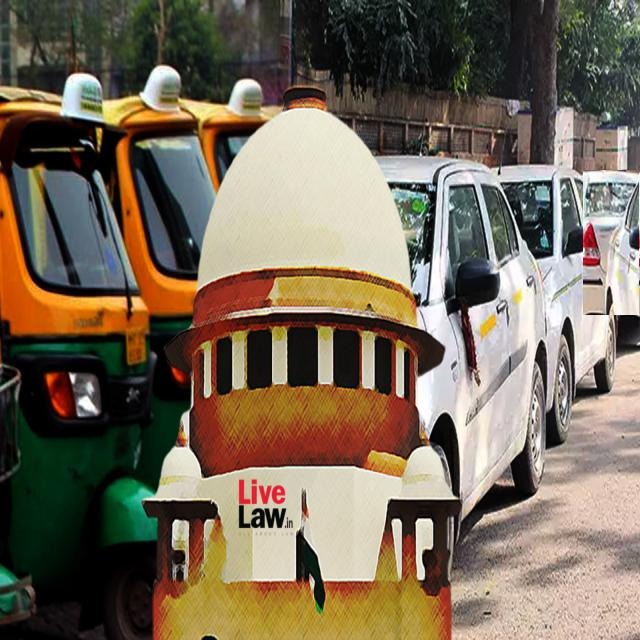autorickshaw: (0, 90, 156, 638), (101, 65, 215, 489)
car: (378, 156, 546, 539), (500, 165, 618, 442), (584, 171, 639, 315)
